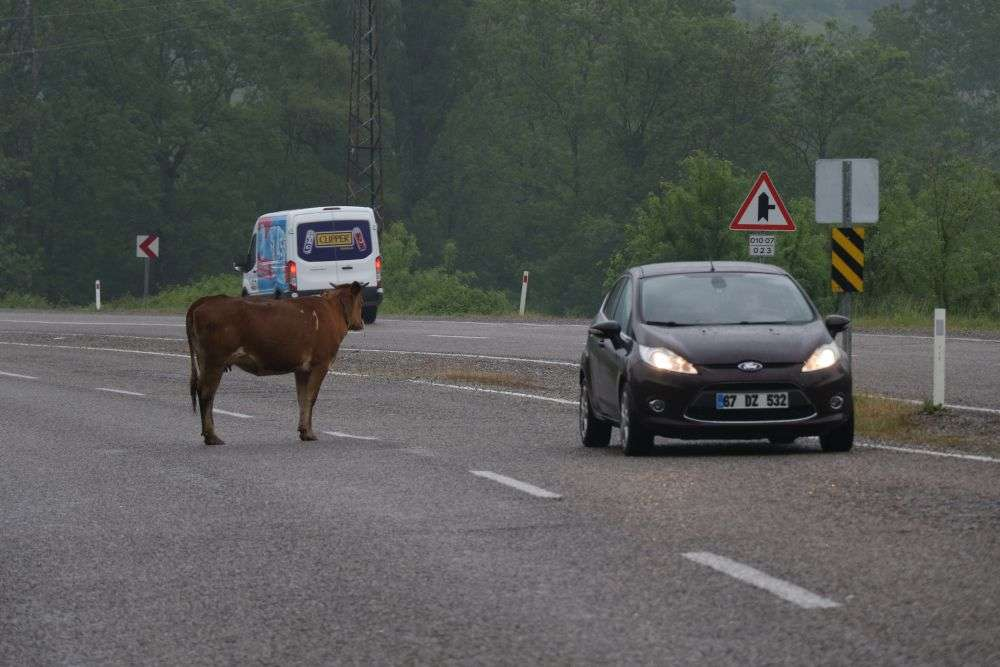minibus: (179, 280, 384, 459)
otomobil: (555, 252, 889, 492), (216, 197, 409, 340)
